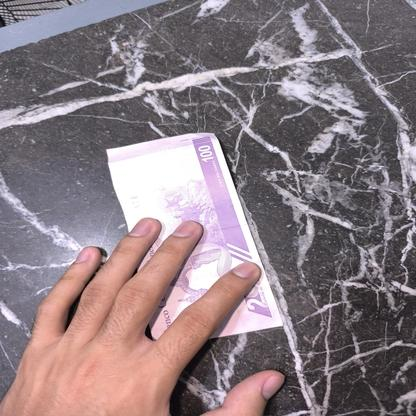vef_back: (106, 132, 284, 342)
